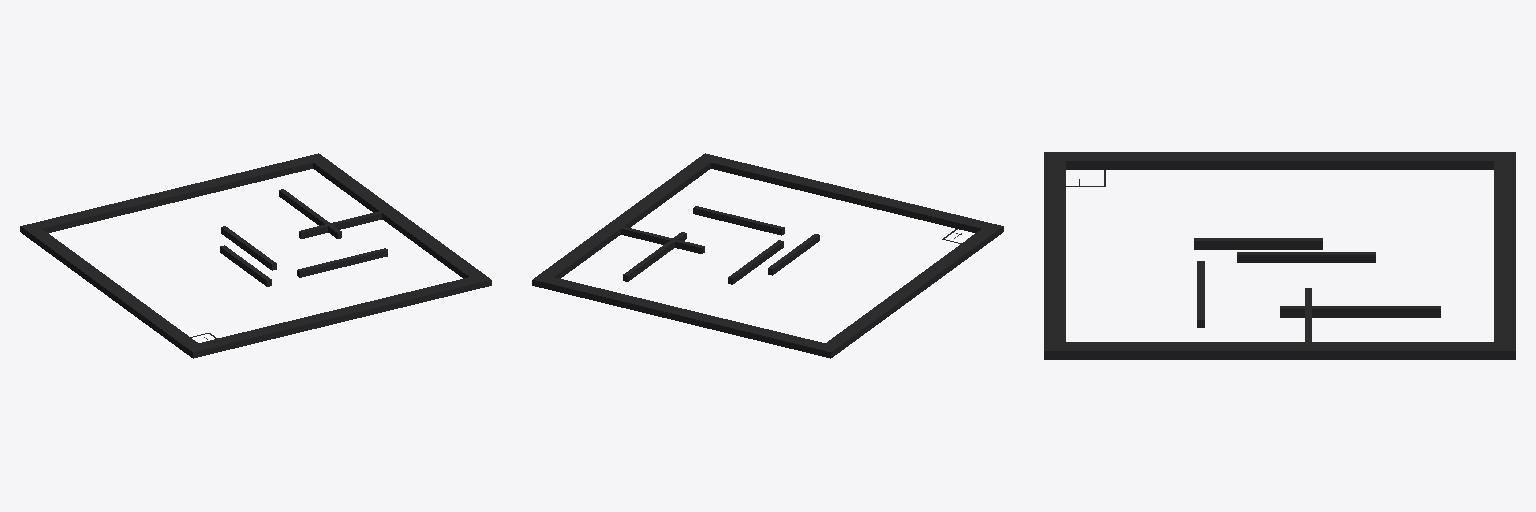
robot.urdf — Room11:
<robot name="Room11">
    <link name="_name">
        <visual> 
            <origin rpy="0.0 0.0 0.0" xyz="-0.5198657231595648 -0.5003093669599565 -0.01" />
                <geometry>
                    <mesh filename="Room11/Room11.obj" scale="1 1 0.1" />
                </geometry>

            <material name="black">
                <color rgba="0.2 0.2 0.2 0.95" />
            </material>
        </visual>

       <collision concave="yes" name="collision_0">
            <origin rpy="0.0 0.0 0.0" xyz="-0.5198657231595648 -0.5003093669599565 -0.01" />
            <geometry>
                <mesh filename="Room11/Room11_vhacd.obj" scale="1 1 0.1" />
            </geometry>
        </collision>

        <inertial> 
            <mass value="0" />
            <inertia ixx="0" ixy="0" ixz="0" iyy="0" iyz="0" izz="0" />
        </inertial> 
    </link>
</robot>

--- Render facts (derived) ---
The picture shows the robot from 3 angles, left to right: view 1: azimuth 30°, elevation 25°; view 2: azimuth 150°, elevation 25°; view 3: azimuth 270°, elevation 25°; orthographic projection.
Model Room11 with 1 links and 0 joints (none), rooted at _name, posed every joint at zero.
Visible links, largest first — view 1: _name; view 2: _name; view 3: _name.
Boxes of the visible links, left/top/right/bottom form: _name: left=20, top=153, right=491, bottom=358; _name: left=532, top=153, right=1003, bottom=358; _name: left=1044, top=152, right=1515, bottom=359.
Bounding box of the posed robot: 1 × 1 × 0.02 m (x, y, z).
1 mesh visuals loaded from 1 distinct referenced files (1 OBJ).